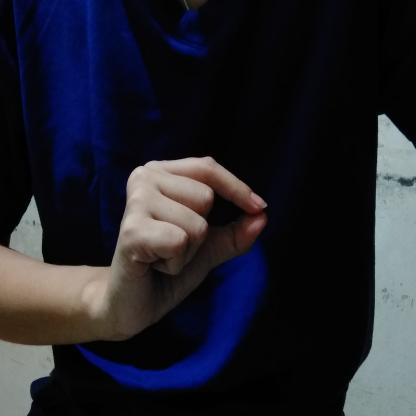nothing: (92, 149, 271, 349)
